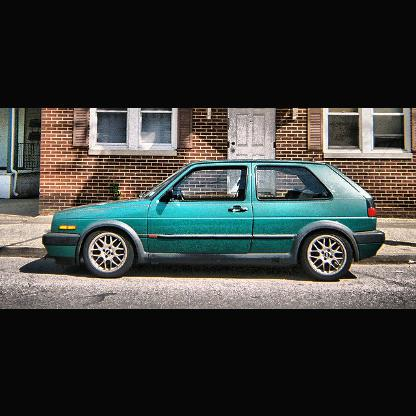Volkswagen Golf Hatchback 1991: (45, 160, 386, 280)
